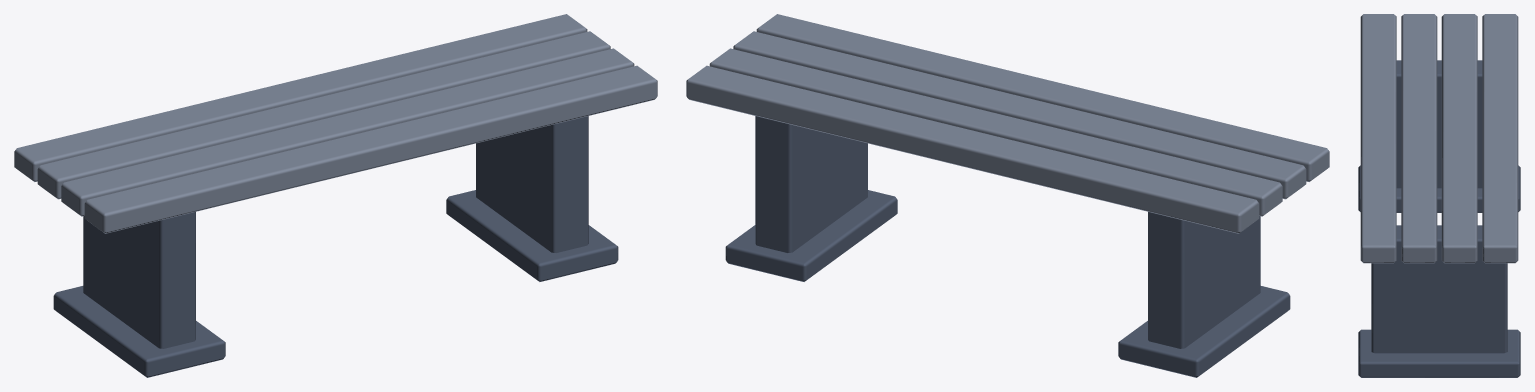
File: 无靠背长凳-lite.glb
The picture shows the model from 3 angles, left to right: view 1: azimuth 30°, elevation 25°; view 2: azimuth 150°, elevation 25°; view 3: azimuth 270°, elevation 25°; orthographic projection. The views are drawn at different scales.
Parts seen in each view (by area): view 1: garden-bench-backless; view 2: garden-bench-backless; view 3: garden-bench-backless.
Part boxes in pixels (box(x1,y1,x2,y2)): garden-bench-backless: box(14, 14, 657, 377); garden-bench-backless: box(686, 14, 1329, 377); garden-bench-backless: box(1358, 14, 1520, 377).
Bounding box in the file's own units: 1.5 × 0.45 × 0.44.
